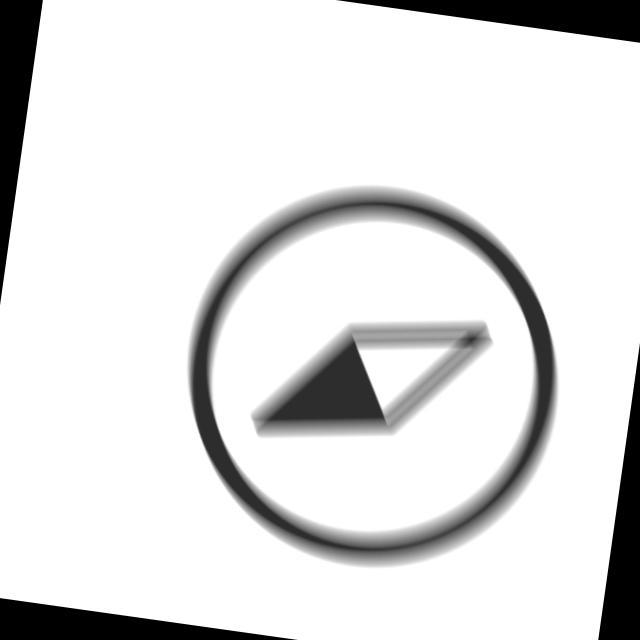compass: (155, 153, 590, 595)
